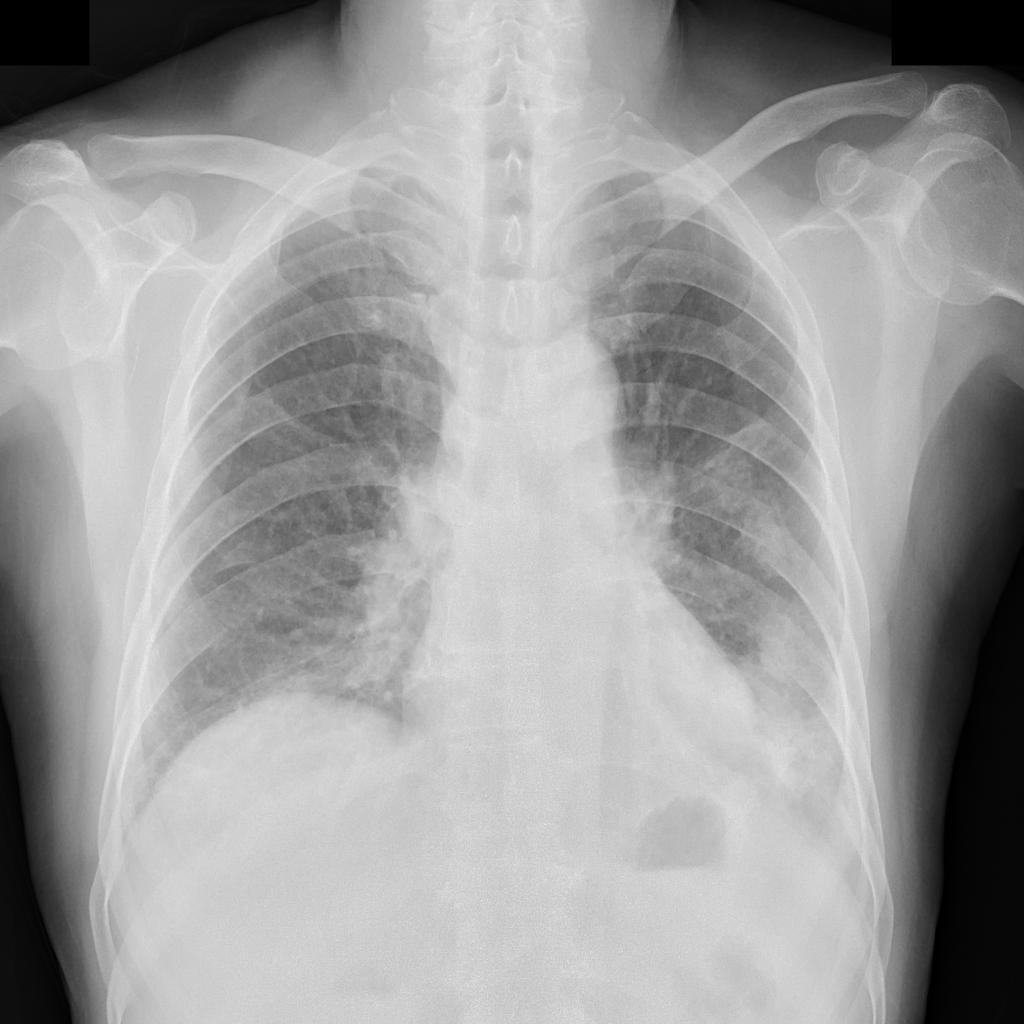Nodule: (714, 449, 753, 516)
